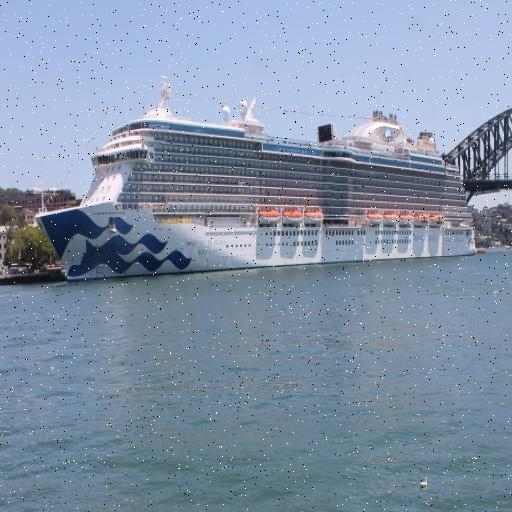cruises: (34, 71, 484, 289)
